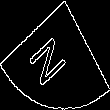N_NE: (31, 23, 79, 87)
